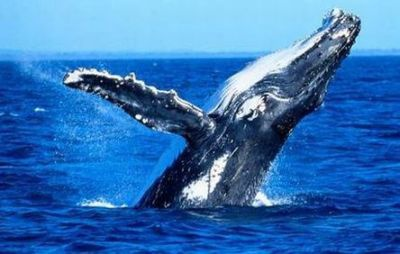humpback: (139, 7, 360, 208)
